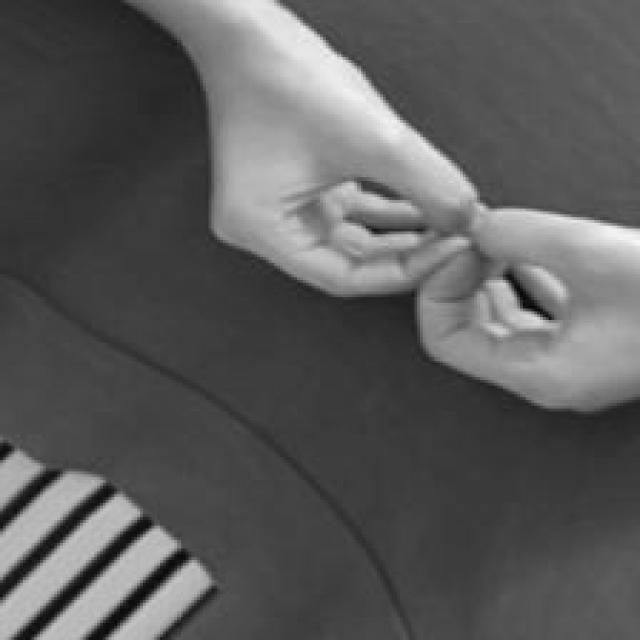B: (207, 0, 640, 413)
